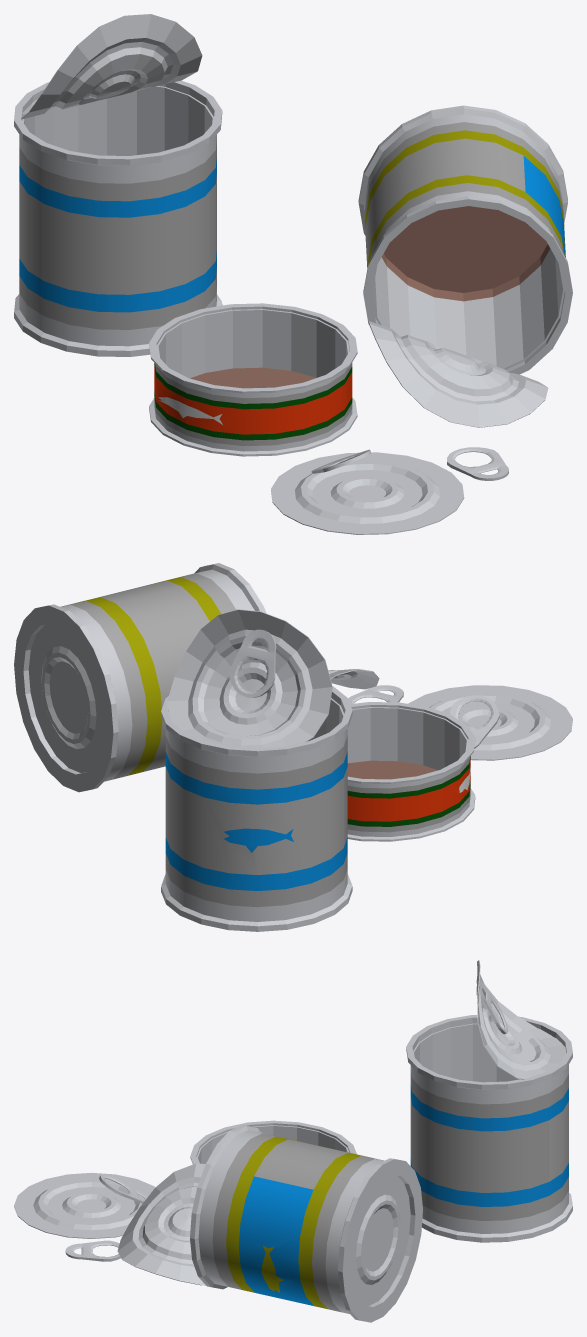
The model's file is cans.fbx.
The picture shows the model from 3 angles, top to bottom: view 1: azimuth 30°, elevation 25°; view 2: azimuth 150°, elevation 25°; view 3: azimuth 270°, elevation 25°; orthographic projection. The views are drawn at different scales.
Parts seen in each view (by area): view 1: pCylinder5, polySurface371, polySurface372, pCylinder3; view 2: pCylinder5, polySurface371, polySurface372, pCylinder3; view 3: polySurface371, pCylinder5, polySurface372, pCylinder3.
Part boxes in pixels (x1,y1,x2,y2): pCylinder5: (14, 14, 222, 356); polySurface371: (358, 105, 572, 427); polySurface372: (149, 303, 464, 534); pCylinder3: (447, 447, 508, 480); pCylinder5: (161, 609, 352, 931); polySurface371: (14, 563, 379, 792); polySurface372: (347, 685, 572, 841); pCylinder3: (348, 685, 403, 703); polySurface371: (117, 1125, 422, 1322); pCylinder5: (406, 960, 572, 1242); polySurface372: (14, 1120, 356, 1238); pCylinder3: (65, 1240, 120, 1261).
Size of the model in its own units: 10.83 by 7.01 by 14.63.
